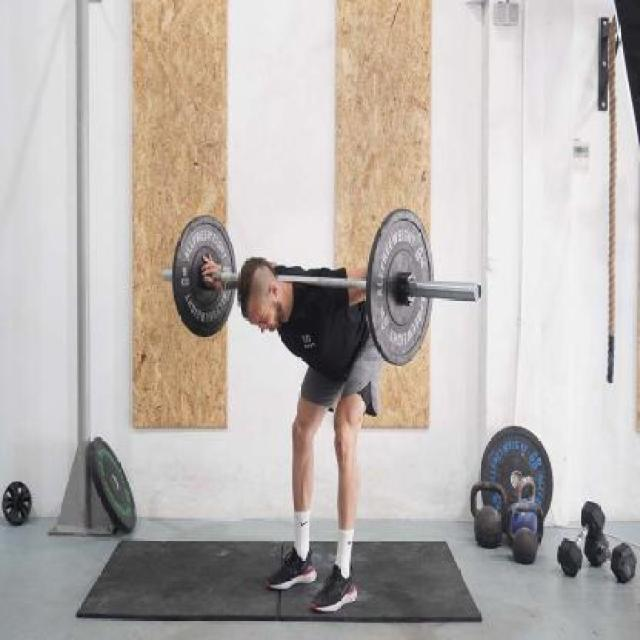barbell: (364, 200, 441, 373)
